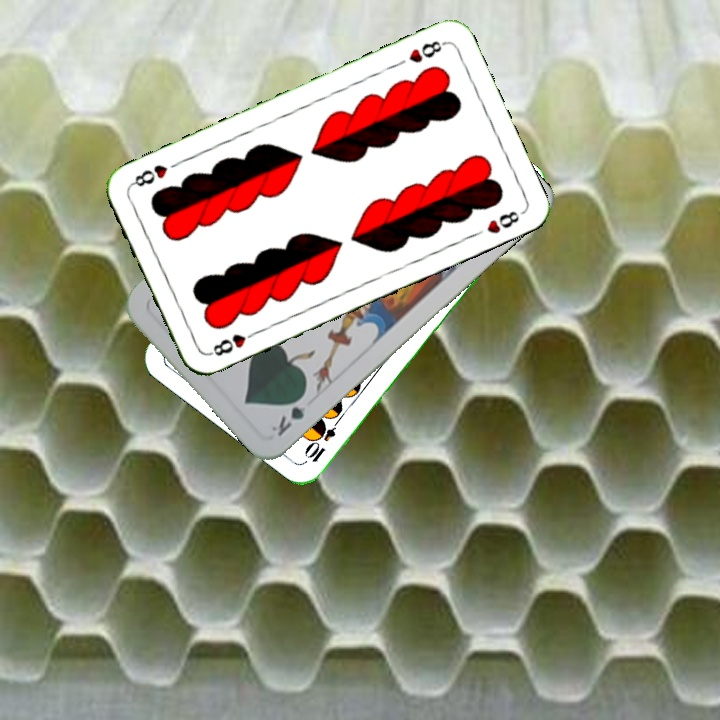E10: (303, 411, 345, 465)
GK: (267, 389, 309, 440)
H8: (205, 326, 261, 359), (404, 36, 448, 66)
